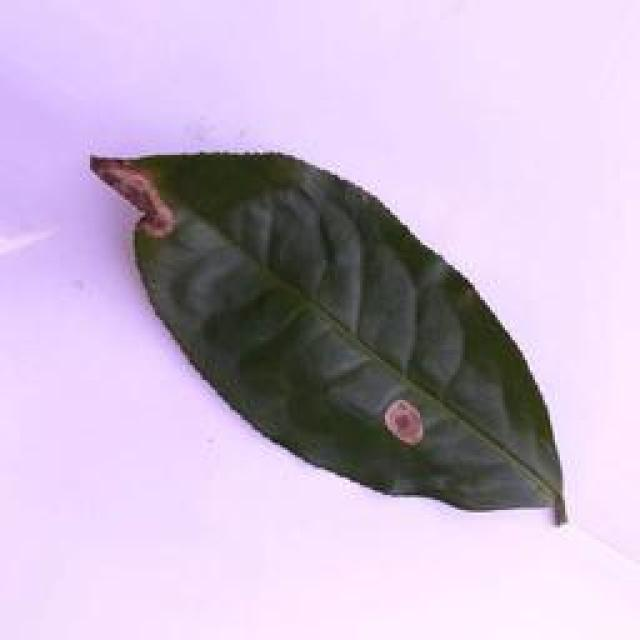Gray Blight: (91, 147, 574, 526)
